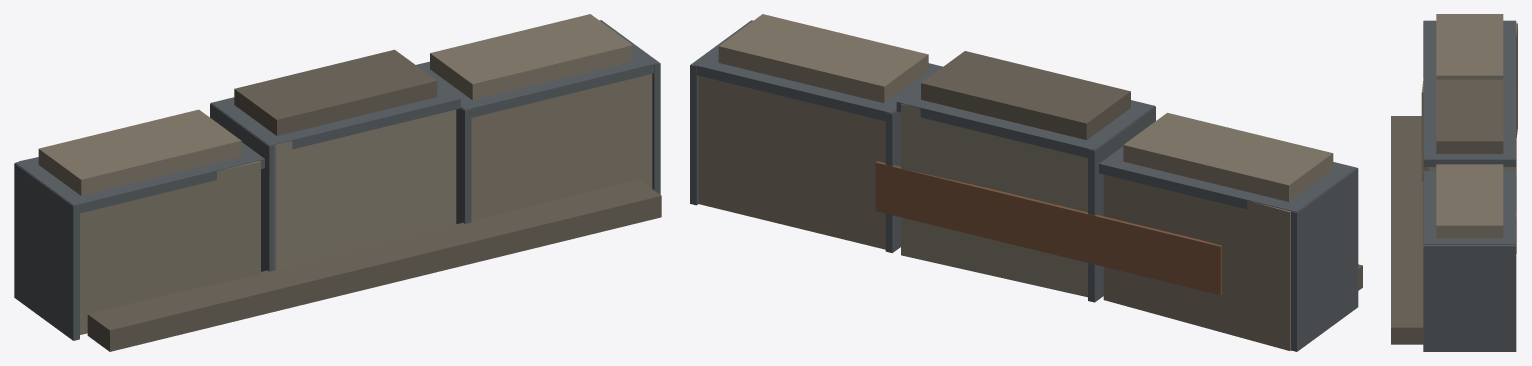
The model's file is hesco_line.glb.
3 views of the same model, side by side, from view 1: azimuth 30°, elevation 25°; view 2: azimuth 150°, elevation 25°; view 3: azimuth 270°, elevation 25° (orthographic). The views are drawn at different scales.
Parts seen in each view (by area): view 1: spill, basket1, basket0, basket2, fill0, fill1, fill2, post0, rim1, rim0, rim2, post1 (+2 smaller); view 2: basket2, basket0, scuff, basket1, fill2, fill0, fill1, post0, rim1, rim0, rim2, post1 (+2 smaller); view 3: postend, spill, fill1, fill2, fill0, rim1, rim2, rim0, basket0, basket1, scuff, post2.
Boxes of the visible parts, box(x1,y1,x2,y2) form: spill: box(87, 179, 661, 351); basket1: box(274, 109, 456, 270); basket0: box(19, 157, 260, 334); basket2: box(471, 74, 652, 220); fill0: box(38, 109, 241, 195); fill1: box(234, 49, 437, 135); fill2: box(430, 14, 632, 100); post0: box(14, 163, 79, 340); rim1: box(211, 82, 460, 149); rim0: box(15, 142, 264, 213); rim2: box(416, 46, 656, 117); post1: box(210, 103, 275, 271); basket2: box(698, 76, 885, 249); basket0: box(1103, 174, 1290, 350); scuff: box(875, 161, 1221, 295); basket1: box(901, 103, 1087, 297); fill2: box(718, 14, 928, 103); fill0: box(1123, 113, 1333, 201); fill1: box(921, 51, 1130, 139); post0: box(1291, 168, 1358, 351); rim1: box(896, 84, 1154, 157); rim0: box(1099, 146, 1357, 212); rim2: box(694, 47, 942, 121); post1: box(1088, 106, 1155, 302); postend: box(1423, 244, 1516, 351); spill: box(1391, 116, 1423, 344); fill1: box(1436, 79, 1503, 153); fill2: box(1436, 164, 1503, 238); fill0: box(1436, 14, 1503, 79); rim1: box(1423, 86, 1515, 166); rim2: box(1423, 171, 1515, 244); rim0: box(1423, 20, 1515, 86); basket0: box(1421, 23, 1517, 181); basket1: box(1423, 89, 1516, 170); scuff: box(1516, 89, 1516, 253); post2: box(1423, 171, 1516, 243).
Size of the model in its own units: 9.15 by 2.43 by 2.17.
